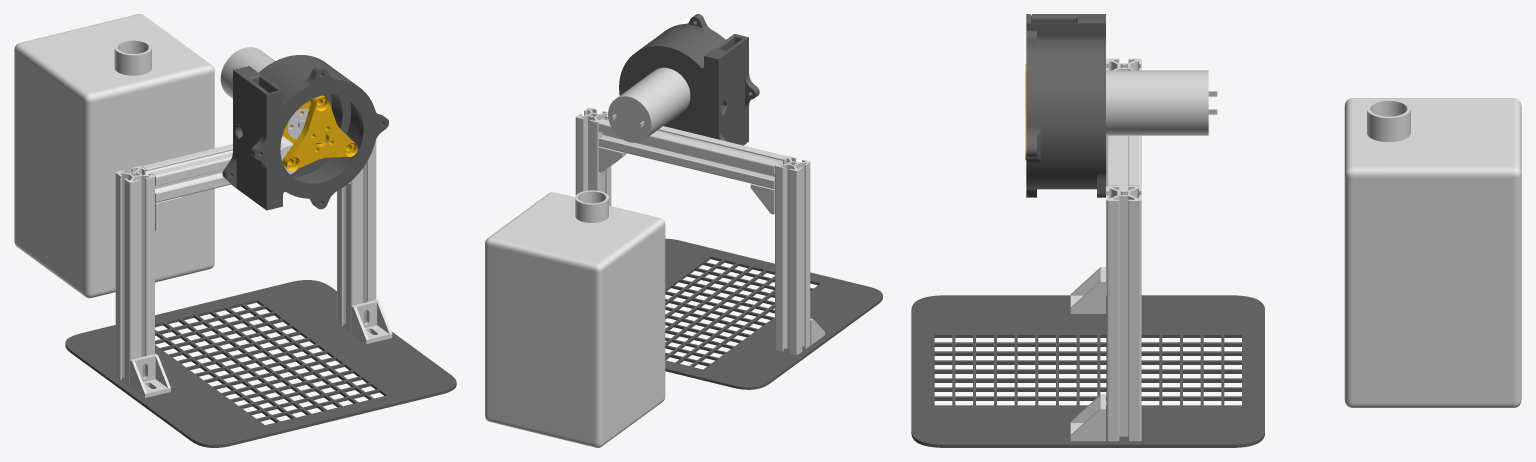
Rendered from gluer.fbx.
3 views of the same model, side by side, from view 1: azimuth 30°, elevation 25°; view 2: azimuth 150°, elevation 25°; view 3: azimuth 270°, elevation 25° (orthographic). The views are drawn at different scales.
Visible parts, largest first — view 1: bucket, frame base, pump body, up, lid, up.001, across, Lower rotor, 2020 bracket, 2020 bracket.003, Motor, 2020 bracket.001; view 2: bucket, frame base, pump body, up, across, Motor, up.001, lid, 2020 bracket.002, 2020 bracket.001; view 3: bucket, frame base, pump body, up.001, Motor, across, 2020 bracket, 2020 bracket.003, lid.
Boxes of the visible parts, <box> form: bucket: <box>14,14,214,298</box>; frame base: <box>65,280,456,447</box>; pump body: <box>222,55,383,208</box>; up: <box>115,166,154,386</box>; lid: <box>252,67,388,210</box>; up.001: <box>337,140,376,332</box>; across: <box>142,144,232,202</box>; Lower rotor: <box>282,95,357,170</box>; 2020 bracket: <box>351,299,392,343</box>; 2020 bracket.003: <box>130,353,170,397</box>; Motor: <box>220,47,305,129</box>; 2020 bracket.001: <box>155,197,181,230</box>; bucket: <box>485,190,665,447</box>; frame base: <box>665,238,882,389</box>; pump body: <box>619,15,757,145</box>; up: <box>775,156,810,354</box>; across: <box>598,116,786,189</box>; Motor: <box>608,67,690,142</box>; up.001: <box>575,107,611,205</box>; lid: <box>665,14,759,142</box>; 2020 bracket.002: <box>598,146,626,172</box>; 2020 bracket.001: <box>750,184,774,214</box>; bucket: <box>1344,98,1521,407</box>; frame base: <box>911,295,1264,447</box>; pump body: <box>1031,14,1105,197</box>; up.001: <box>1106,186,1141,441</box>; Motor: <box>1106,70,1217,135</box>; across: <box>1106,135,1141,190</box>; 2020 bracket: <box>1070,394,1105,441</box>; 2020 bracket.003: <box>1070,267,1105,313</box>; lid: <box>1026,14,1031,197</box>.
Size of the model in its own units: 60 by 67.72 by 104.
